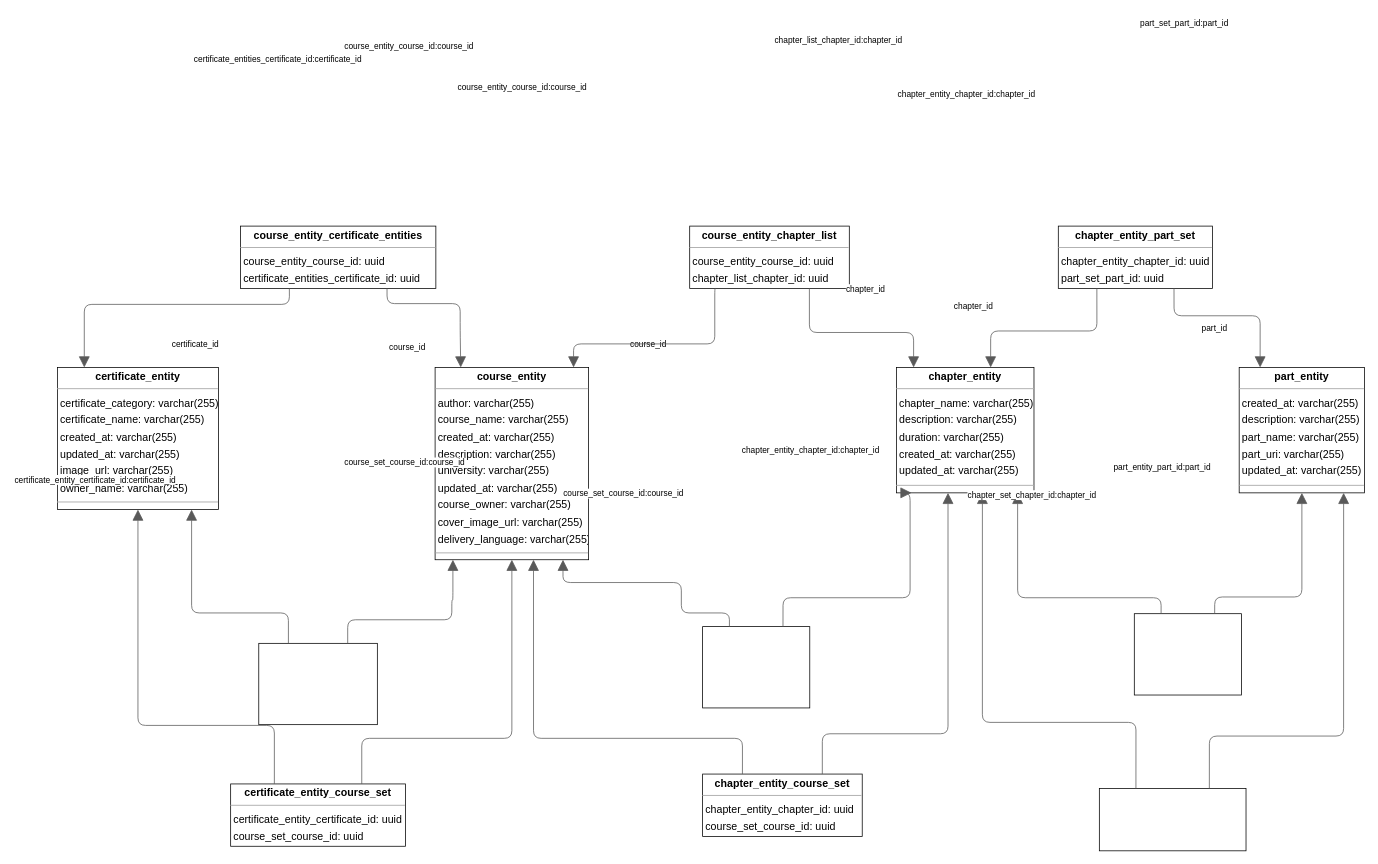
Some shapes in this 1378 by 864 pixel diagram are drawn without their labels. The shapes that lost their labels are listed below. From the top down, each one's box as (x1, y1, x2, y2) in pixels, then its label:
(702, 626, 810, 708): course_chapter seq_no: varchar(255) chapter_id: uuid course_id: uuid
(1134, 613, 1241, 695): chapter_part seq_no: varchar(255) chapter_id: uuid part_id: uuid
(258, 643, 377, 725): certificate_course seq_no: varchar(255) certificate_id: uuid course_id: uuid
(1099, 788, 1246, 851): part_entity_chapter_set part_entity_part_id: uuid chapter_set_chapter_id: uuid
